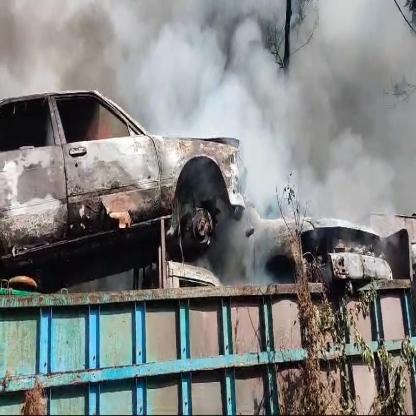Smoke: (0, 0, 416, 261)
